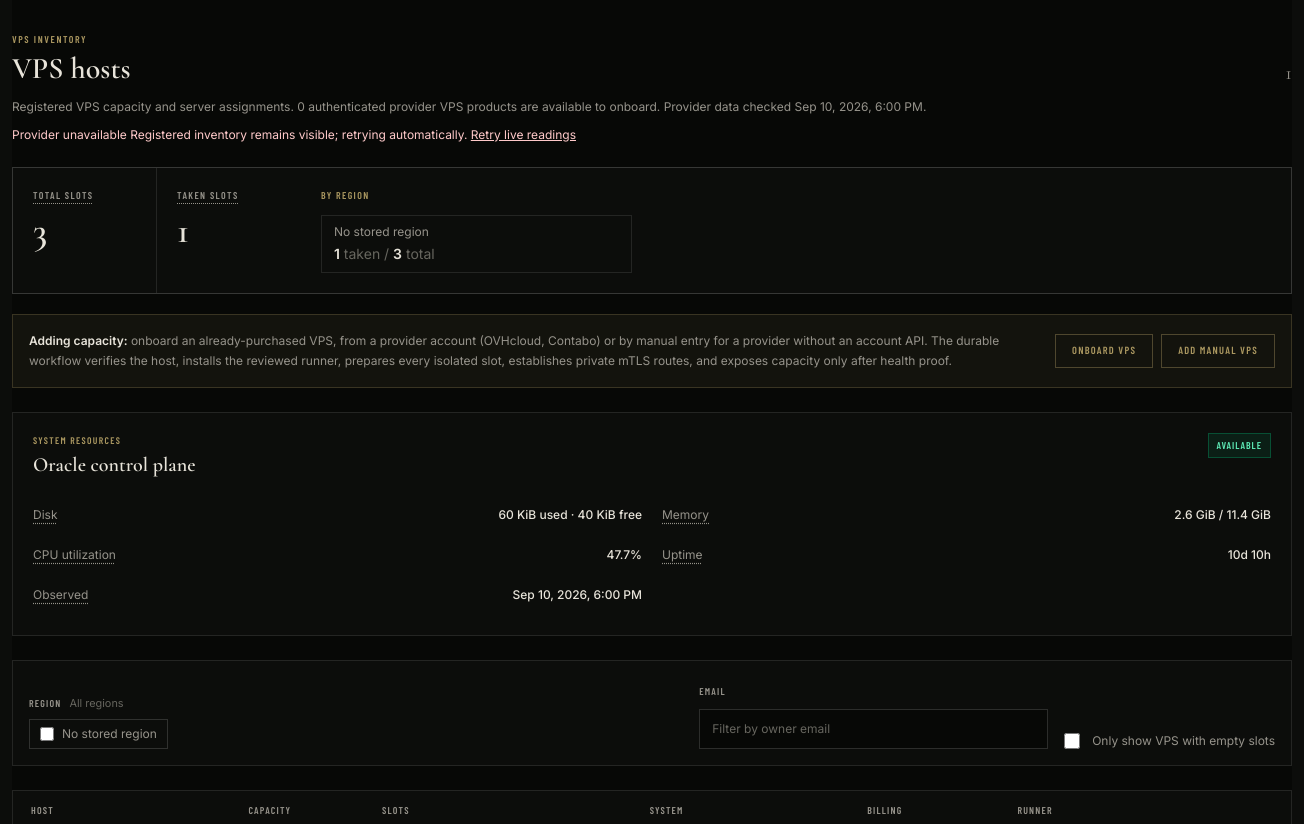
Scenario: keeps inventory on failure and retries live readings
The width and height of the screenshot is (1304, 824).
Check: the message shows "Provider unavailable", box [12,127,127,142]
Click the button "Retry live readings": (523, 135) [471,127,576,143]
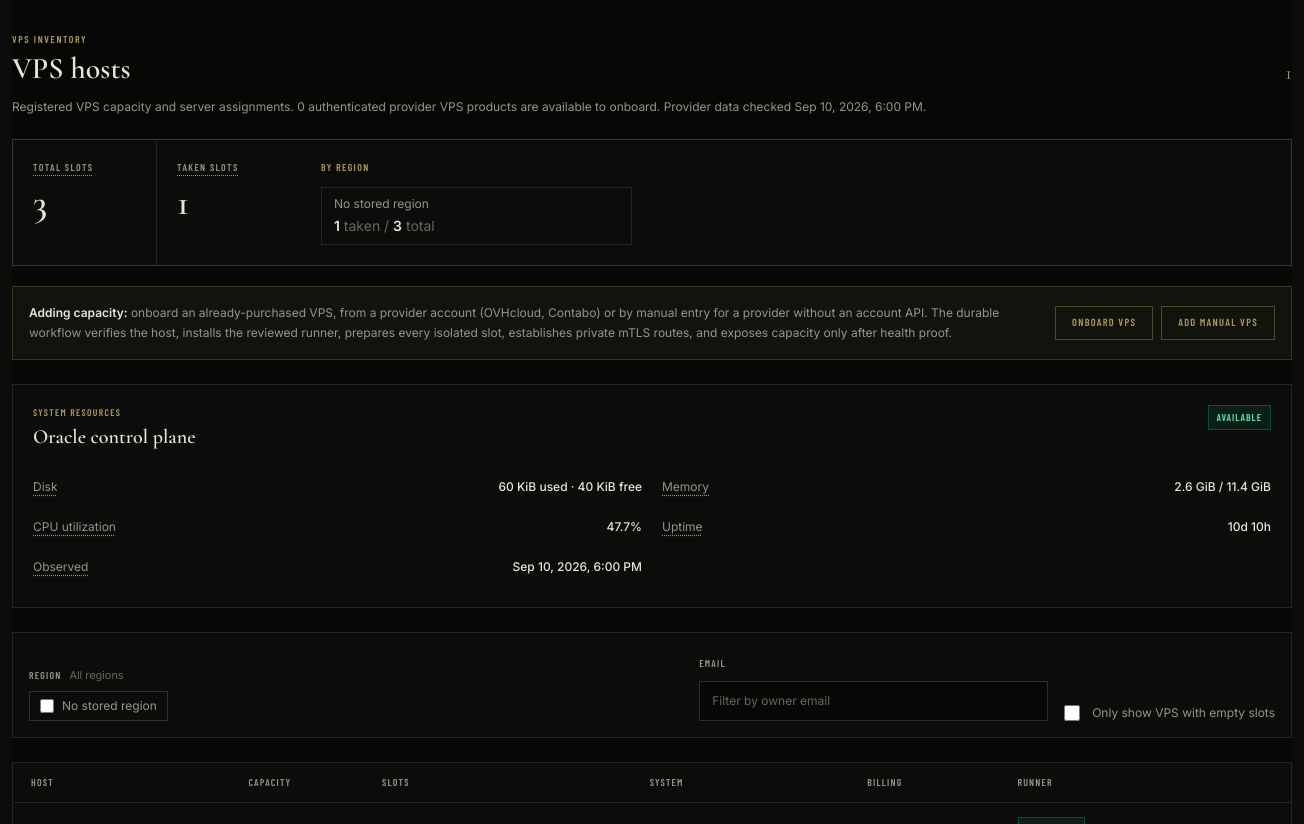
Check: the text "47.7%" is shown, box [607,519,642,535]
Check: the message is gone
